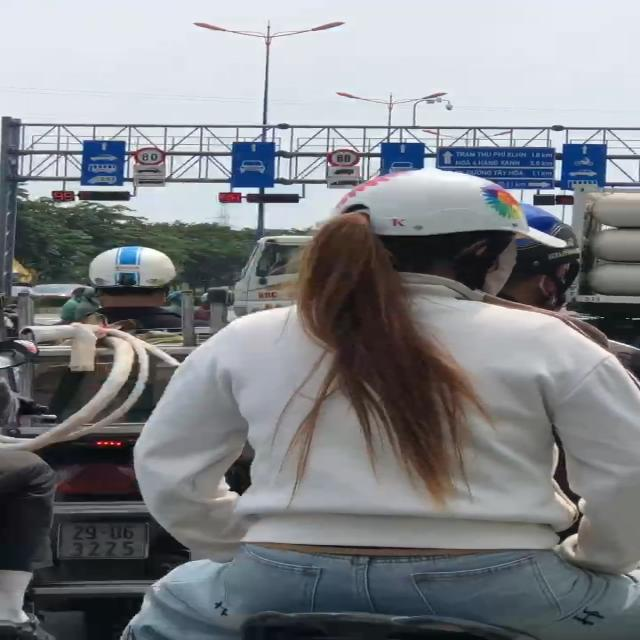Bien bao toc do toi da cho phep: (322, 146, 364, 168), (135, 144, 169, 167)
